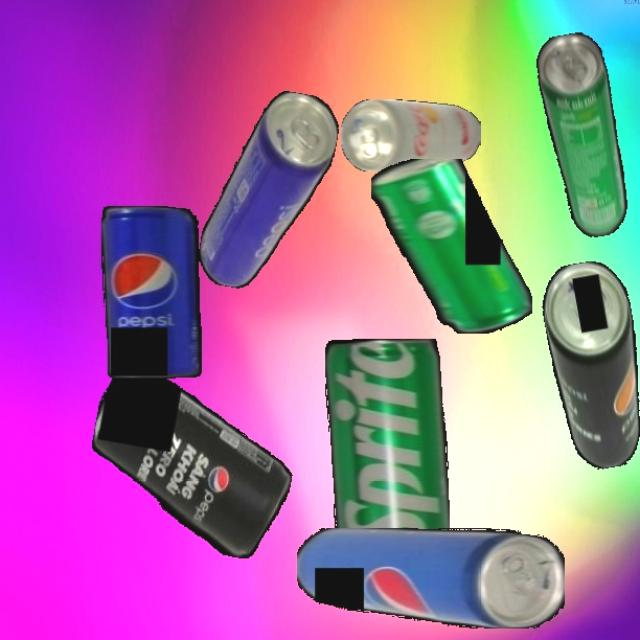debris: (78, 358, 306, 564), (195, 82, 343, 300), (370, 159, 532, 334), (324, 339, 450, 555), (296, 528, 565, 629), (536, 256, 640, 474), (532, 29, 635, 242), (101, 205, 202, 379), (341, 98, 481, 172)
